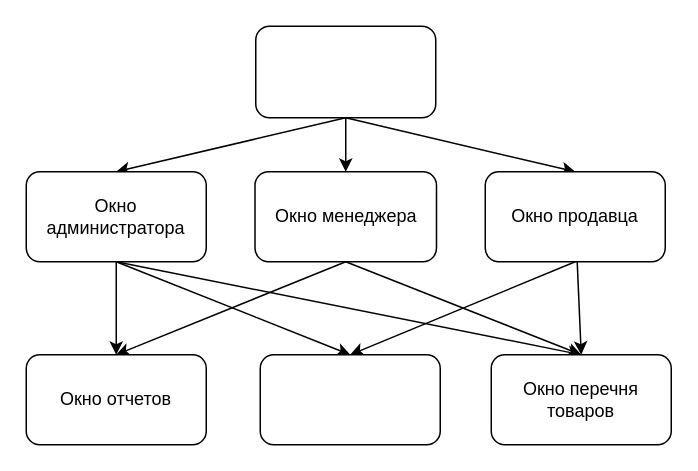
The diagram is 698 pixels wide and 471 high, and some of its shapes have lost their labels. Each missing label, with the box of its shape:
Окно авторизации: (254, 25, 436, 118)
Окно редактирования/удаления мебели: (259, 353, 440, 445)
